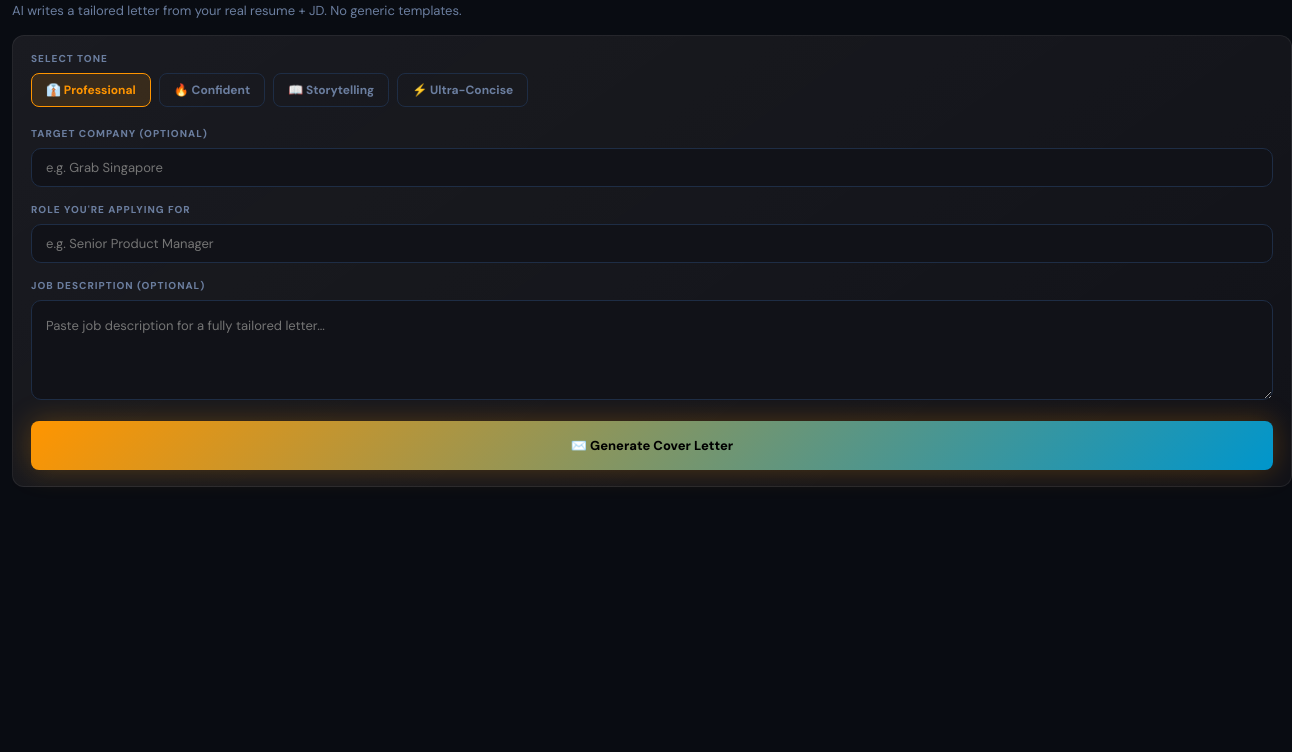
Test: CoverLetterGen › lets the user edit the letter and copies the edited text
Type "PM" into the field named "Role".
click(652, 244); type("PM")  # box [31,224,1273,263]
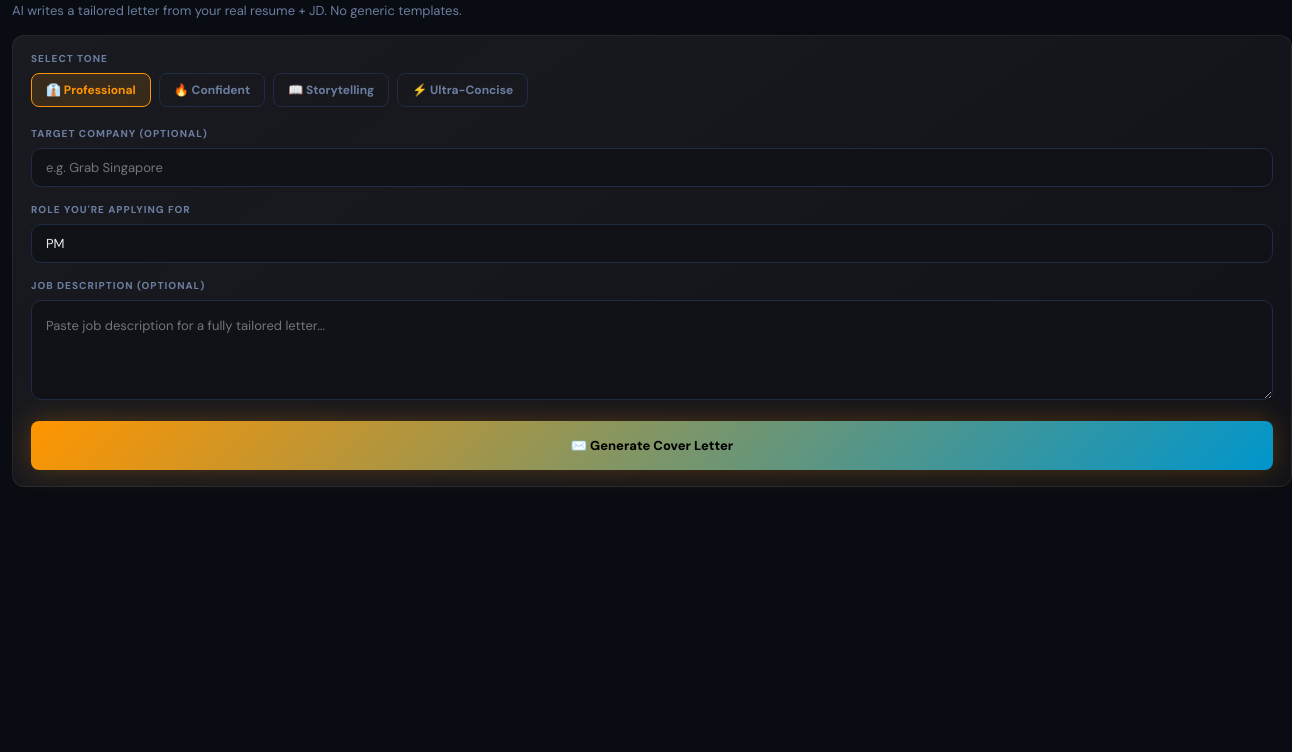
Click the button "✉️ Generate Cover Letter".
click(652, 446)  # box [31,421,1273,470]
(page scrolled)
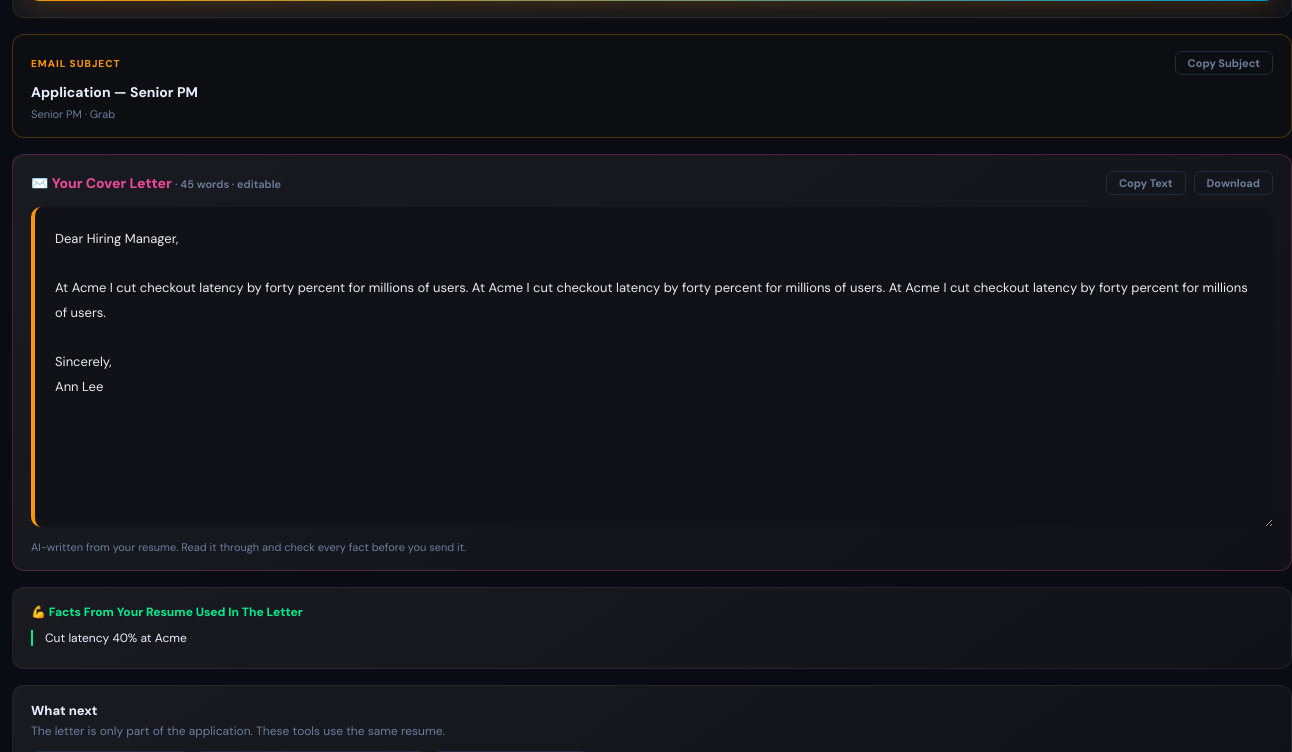
Now the text "Application — Senior PM" is shown, box [31,83,198,101]
Replace the text in the text box named "Cover letter text" with "My edited letter" at (652, 367), box [31,207,1273,527]
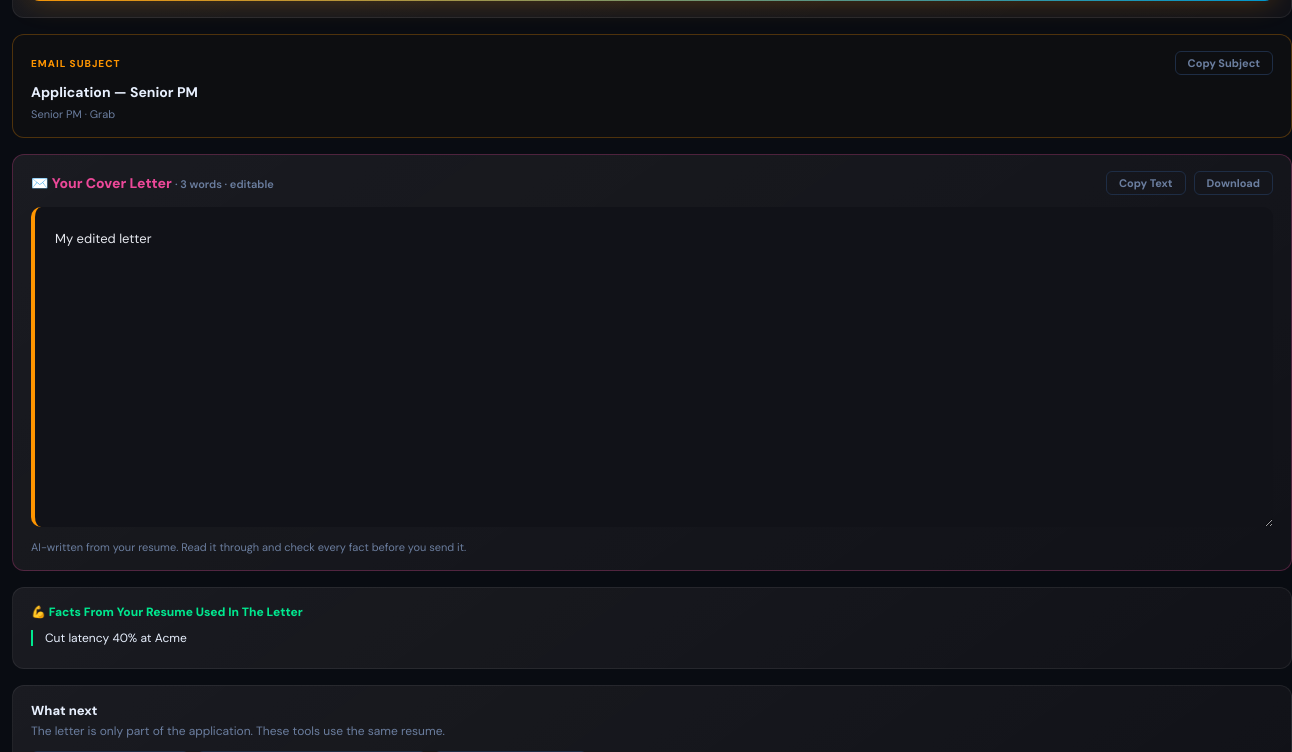
Click the button "Copy Text".
click(1146, 183)  # box [1106,171,1186,195]
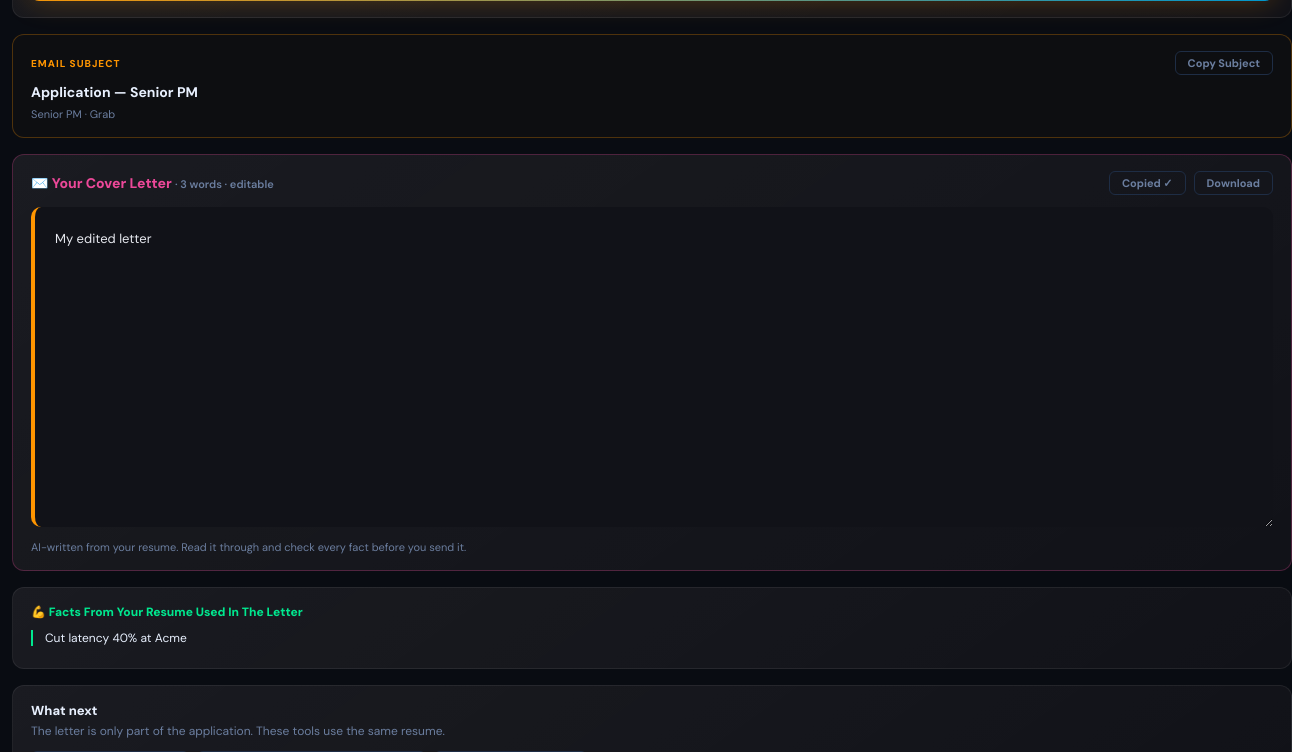
Now the button "Copied ✓" is shown, box [1109,171,1186,195]
